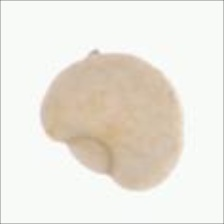L5: (61, 133, 118, 182)
L6: (37, 50, 186, 194)
